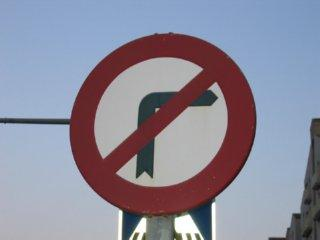no_right_turn: (69, 32, 256, 214)
